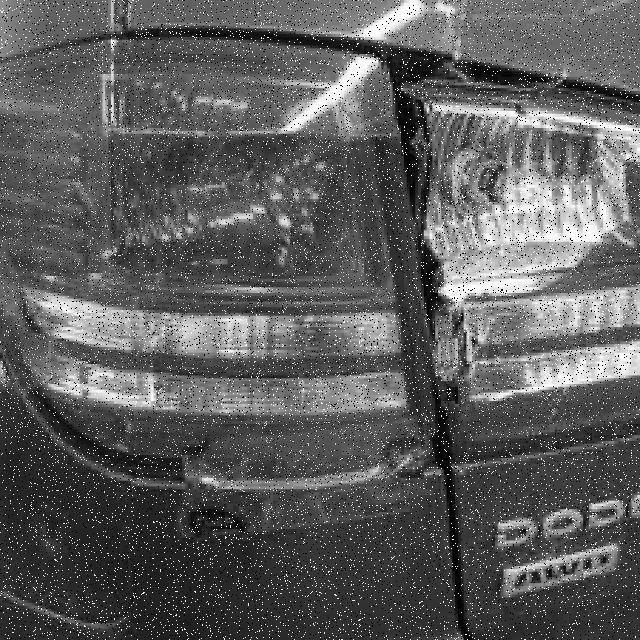Taillight-Damage: (0, 20, 636, 506)
